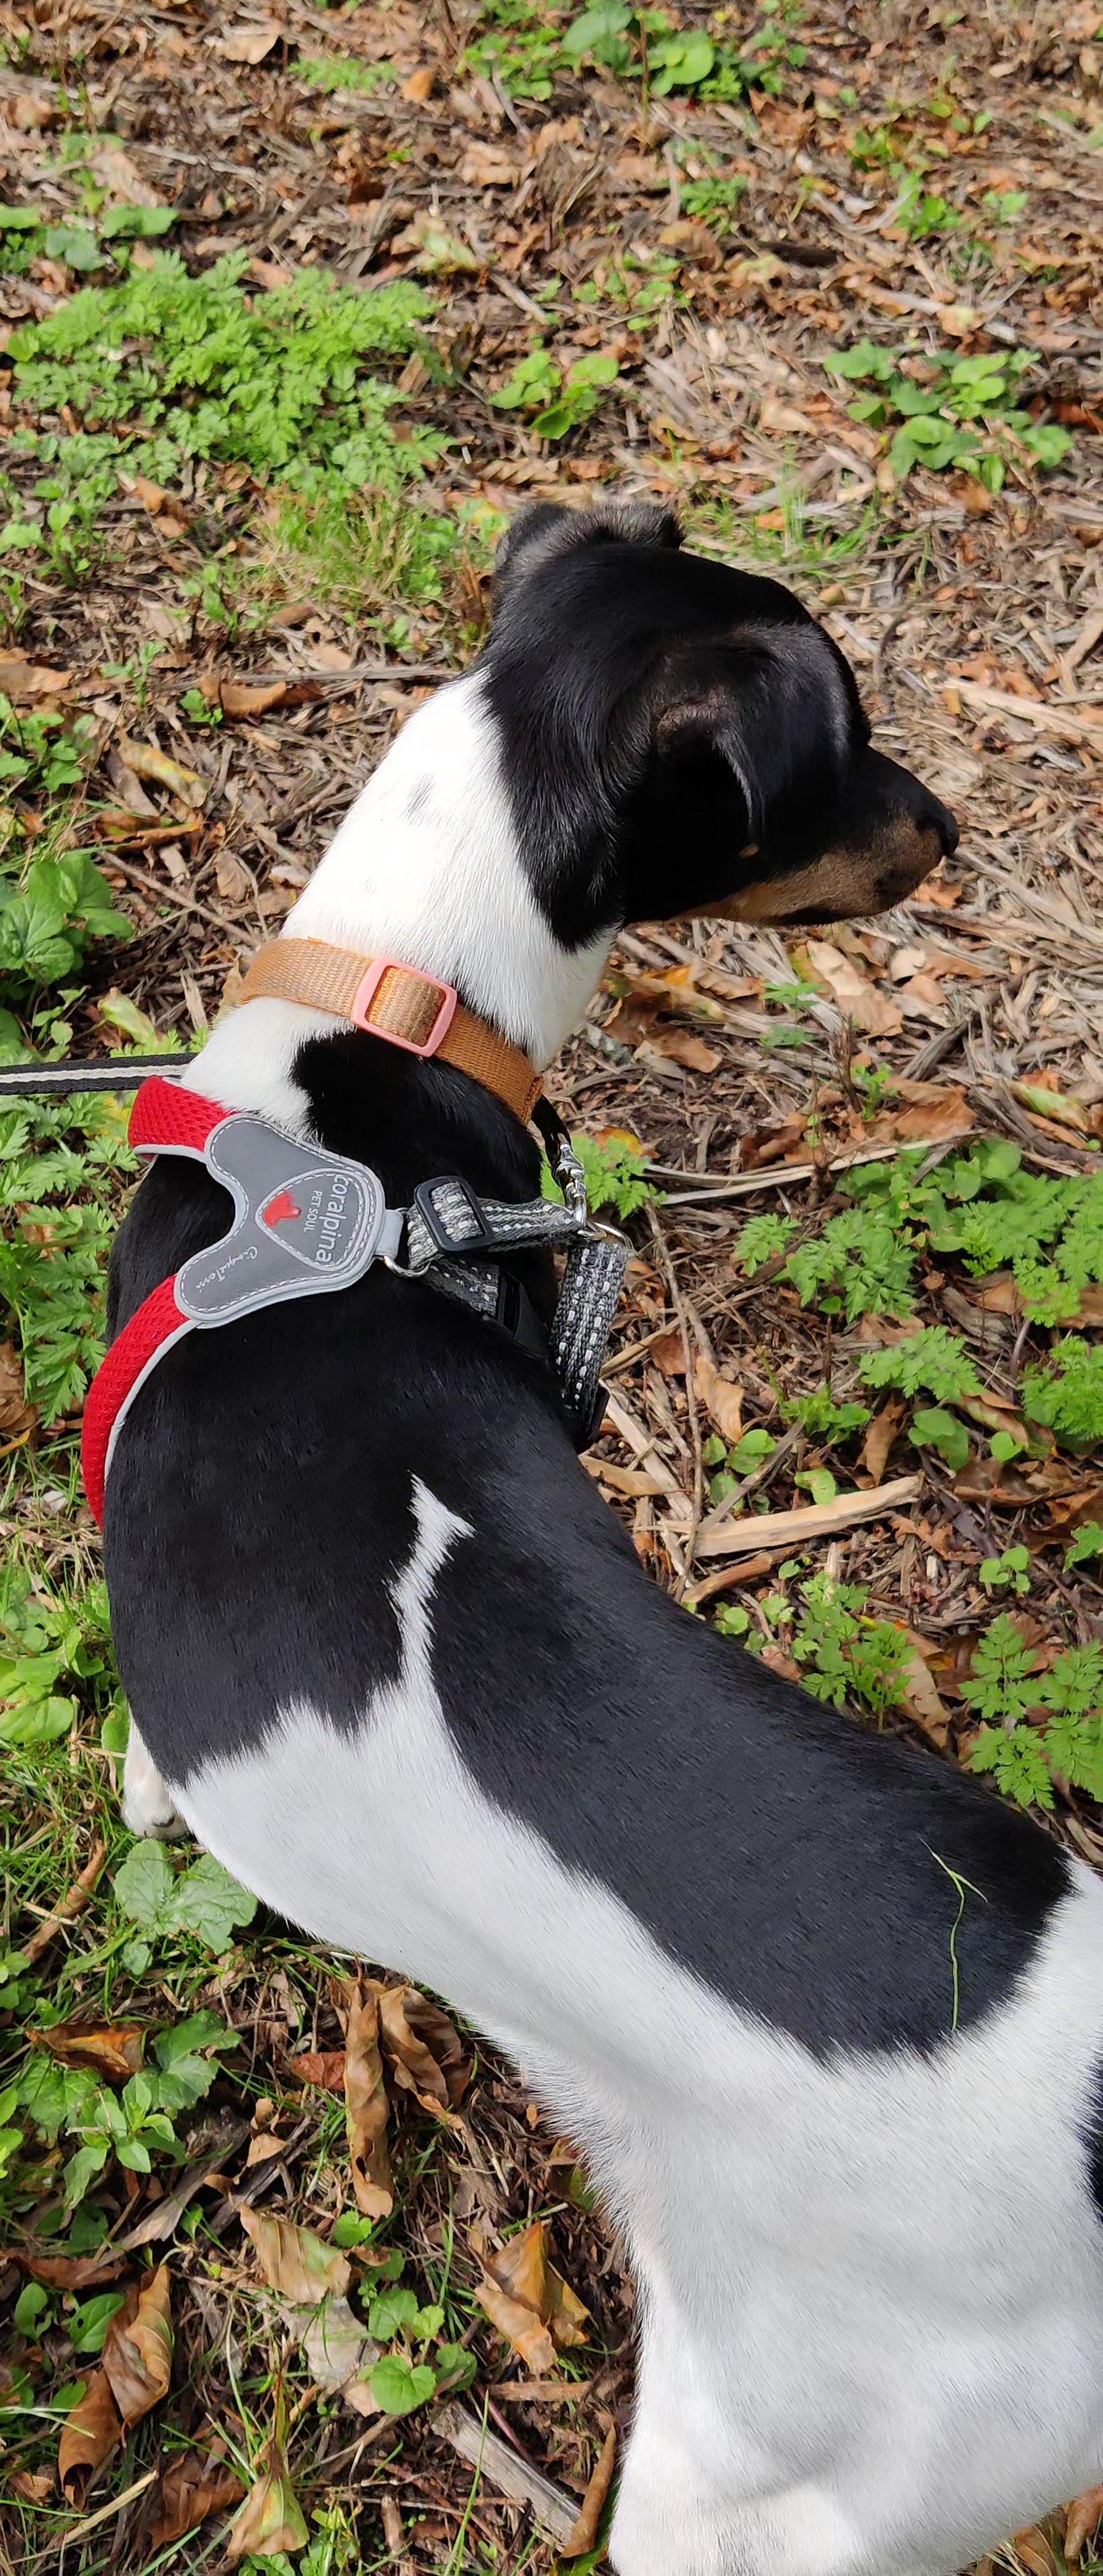Dog: (71, 483, 1103, 2576)
